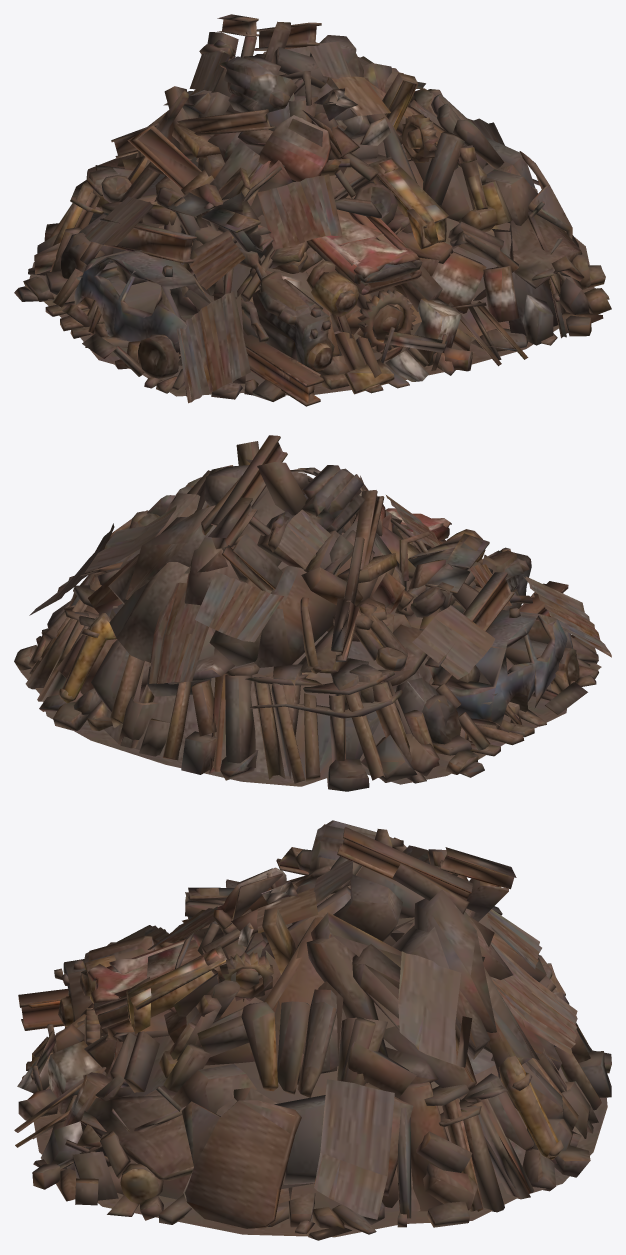
Rendered from scrap_mountain_landmark.glb.
The picture shows the model from 3 angles, top to bottom: view 1: azimuth 30°, elevation 25°; view 2: azimuth 150°, elevation 25°; view 3: azimuth 270°, elevation 25°; orthographic projection. The views are drawn at different scales.
Parts seen in each view (by area): view 1: Meshy_AI_scrap_mountain_landmark_3d_20261028_texture; view 2: Meshy_AI_scrap_mountain_landmark_3d_20261028_texture; view 3: Meshy_AI_scrap_mountain_landmark_3d_20261028_texture.
Boxes of the visible parts, x1,y1,x2,y2 form: Meshy_AI_scrap_mountain_landmark_3d_20261028_texture: [14, 14, 611, 406]; Meshy_AI_scrap_mountain_landmark_3d_20261028_texture: [14, 435, 611, 791]; Meshy_AI_scrap_mountain_landmark_3d_20261028_texture: [14, 820, 611, 1240].
Size of the model in its own units: 14 by 6.71 by 12.77.
Materials: 1 (1 with a texture image).
